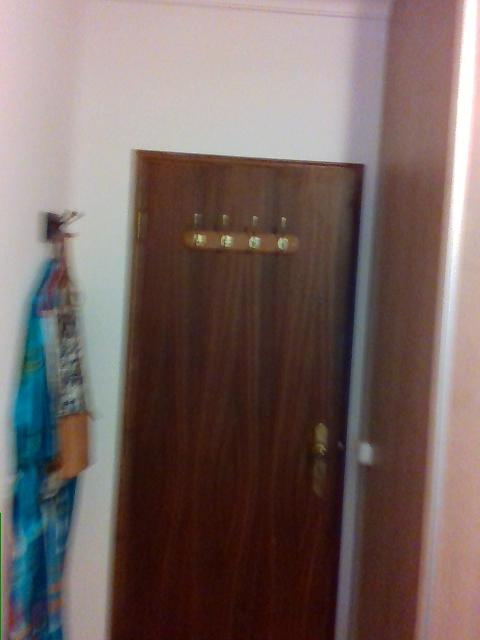door: (107, 147, 368, 638)
